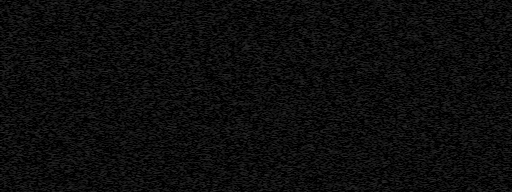wv_am: (452, 0, 458, 192)
wv_cw: (460, 0, 466, 192), (459, 0, 464, 192), (460, 0, 465, 192), (483, 0, 488, 192)
wv_lsb: (456, 144, 462, 192), (456, 12, 462, 59), (456, 107, 462, 133), (478, 112, 484, 130), (457, 60, 461, 73), (479, 33, 483, 43), (457, 134, 461, 143), (479, 103, 483, 111), (480, 4, 483, 14), (457, 74, 461, 80), (480, 15, 483, 19), (480, 133, 483, 136), (457, 91, 460, 94)
wv_usb: (445, 8, 450, 37), (446, 38, 450, 51), (446, 52, 450, 62), (445, 1, 450, 7), (446, 80, 449, 88), (446, 68, 449, 72), (446, 63, 449, 67), (446, 106, 449, 109), (446, 75, 449, 78)
wv_wbfm: (463, 0, 479, 191)
